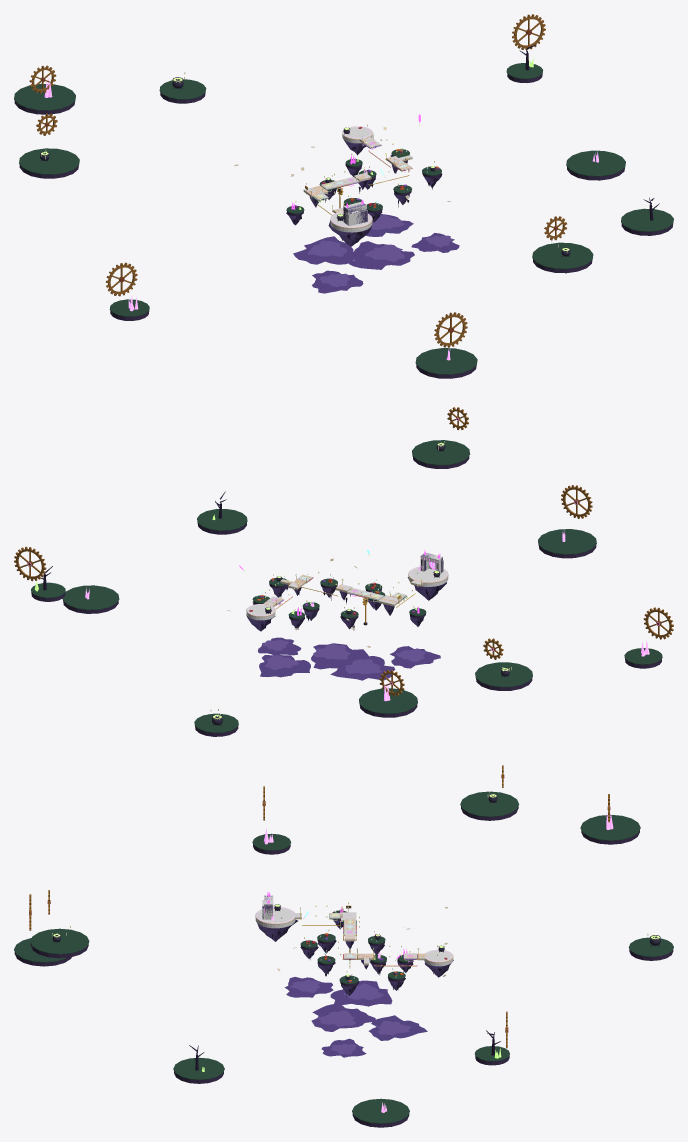
The picture shows the model from 3 angles, top to bottom: view 1: azimuth 30°, elevation 25°; view 2: azimuth 150°, elevation 25°; view 3: azimuth 270°, elevation 25°; orthographic projection. The views are drawn at different scales.
Visible parts, largest first — view 1: V_grass_dark, V_mist, V_dirt, V_mist_hi, C_0, V_rock, V_brass.011, V_brass.007; view 2: V_grass_dark, V_mist, V_dirt, V_mist_hi, C_0, V_rock, V_glow_purple, V_brass.011, V_brass.007; view 3: V_grass_dark, V_mist, V_dirt, V_mist_hi, C_0, V_rock.
Part boxes in pixels (<box>): V_grass_dark: <box>14,63,673,374</box>; V_mist: <box>293,214,459,293</box>; V_dirt: <box>14,74,672,378</box>; V_mist_hi: <box>307,214,452,286</box>; C_0: <box>303,126,412,232</box>; V_rock: <box>286,139,442,246</box>; V_brass.011: <box>512,14,545,50</box>; V_brass.007: <box>434,312,467,347</box>; V_grass_dark: <box>31,440,662,732</box>; V_mist: <box>258,637,440,680</box>; V_dirt: <box>31,456,661,736</box>; V_mist_hi: <box>262,639,425,674</box>; C_0: <box>246,566,448,620</box>; V_rock: <box>246,577,446,631</box>; V_glow_purple: <box>85,530,649,701</box>; V_brass.011: <box>14,546,46,581</box>; V_brass.007: <box>561,485,592,518</box>; V_grass_dark: <box>14,791,673,1123</box>; V_mist: <box>284,977,427,1057</box>; V_dirt: <box>14,806,673,1127</box>; V_mist_hi: <box>290,979,410,1054</box>; C_0: <box>255,906,453,966</box>; V_rock: <box>257,919,453,995</box>.
Size of the model in its own units: 176 by 42.98 by 181.
